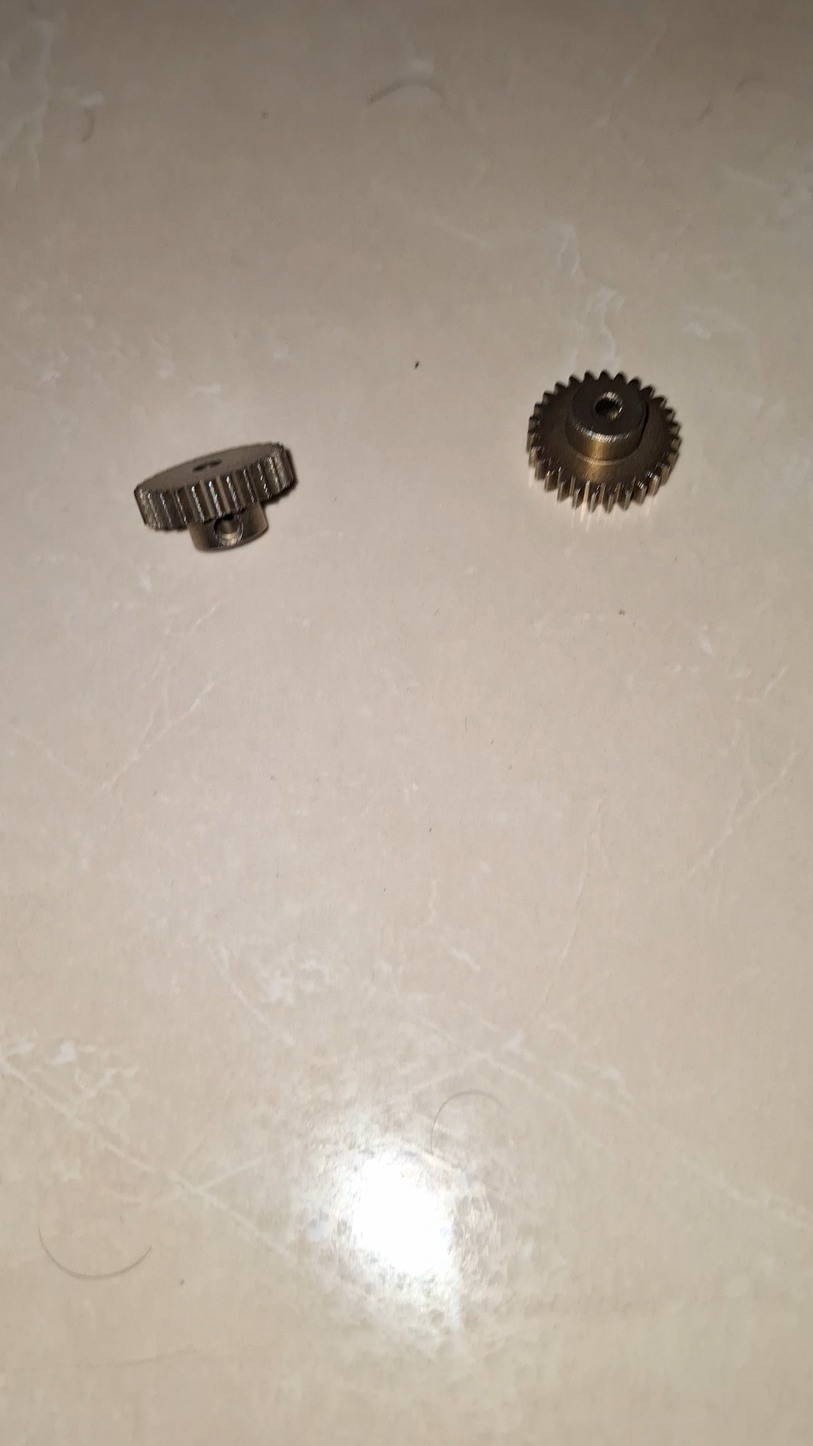spur gear: (527, 372, 679, 511), (135, 443, 295, 550)
